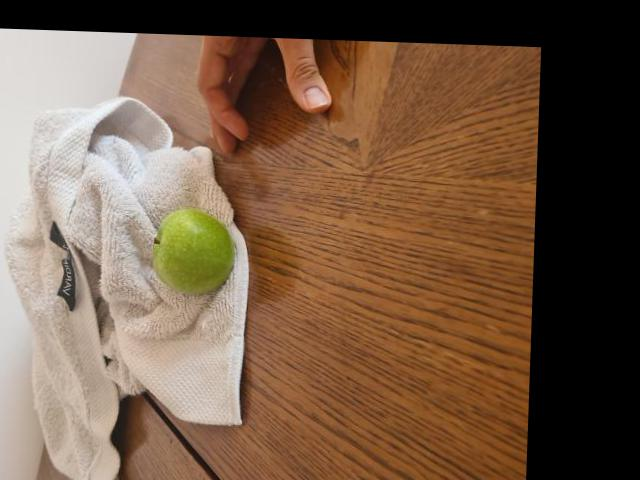apple: (151, 201, 242, 292)
